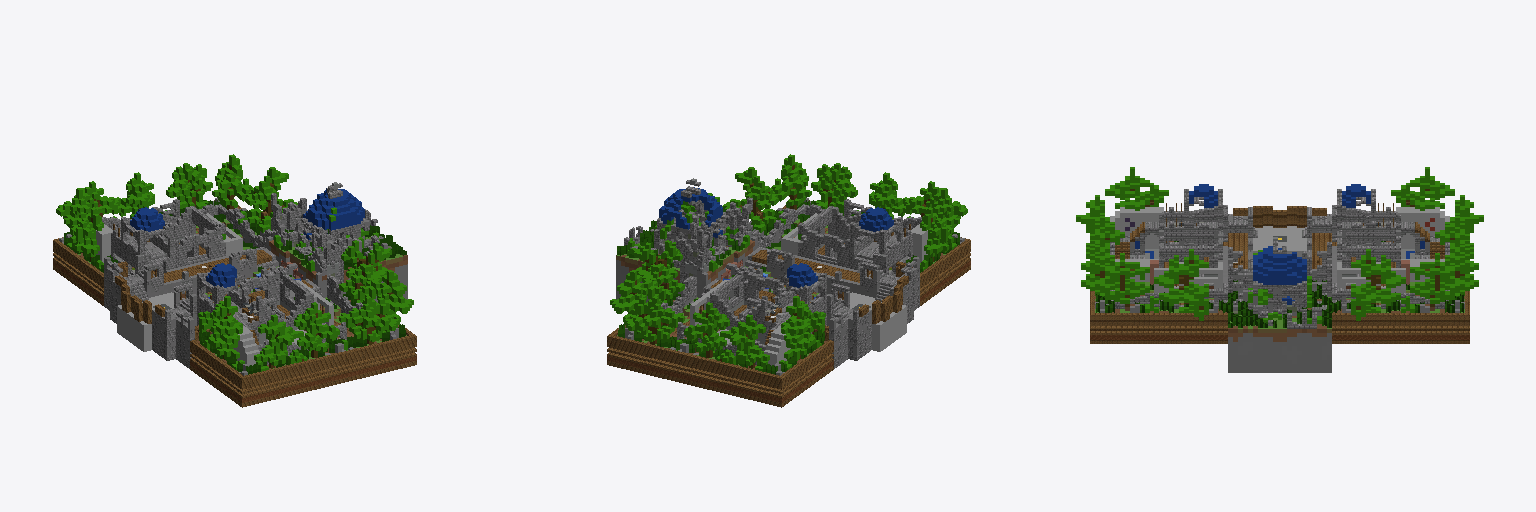
3 renders of one model, left to right at view 1: azimuth 30°, elevation 25°; view 2: azimuth 150°, elevation 25°; view 3: azimuth 270°, elevation 25°, orthographic.
Size of the model in its own units: 59 by 25 by 83.
Materials: 50 (14 with a texture image).